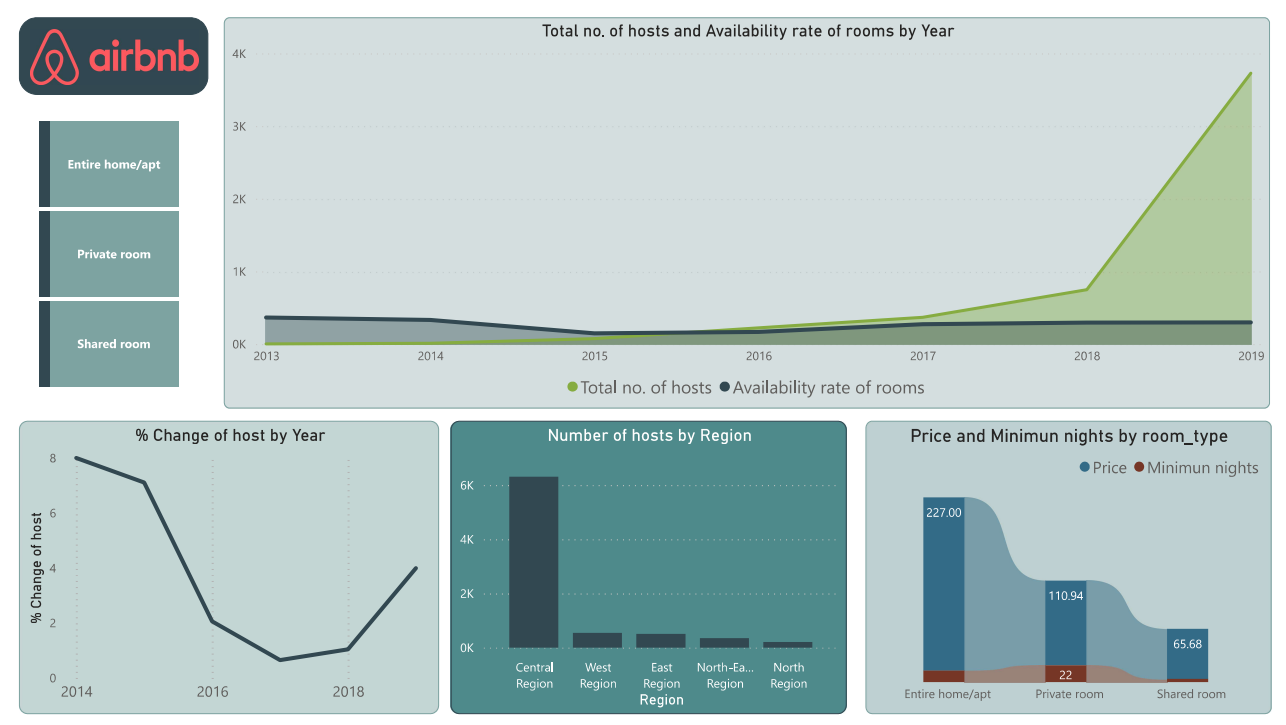

Layout of this report page (visuals, bound fields, positions):
{"tool":"powerbi","page":{"name":"Page 1","canvas":[1280,720],"ordinal":0},"visuals":[{"type":"clusteredColumnChart","fields":{"Category":["region count.Region "],"Y":["Sum(region count.count)"]},"box":[440.1,414.2,393.2,291.2],"z":1},{"type":"lineChart","fields":{"Category":["year ratr.Year"],"Y":["Sum(year ratr.hosts_pct_change)"]},"box":[11.3,414.2,417.4,291.2],"z":4},{"type":"ribbonChart","fields":{"Category":["room and night.room_type"],"Y":["Avg(room and night.mean_price)","Sum(room and night.minimun nights)"]},"box":[851.1,414.2,402.9,291.2],"z":5},{"type":"slicer","fields":{"Values":["room and night.room_type"]},"box":[0,105,200,286.7],"z":6},{"type":"areaChart","fields":{"Category":["year data.Year"],"Y":["Sum(year data.count)","Max(year data.Avg_availability_rate)"]},"box":[215,15,1038.3,388.3],"z":7},{"type":"image","box":[11.7,15,188.3,76.7],"z":8}]}

Visuals, with their boxes in screenshot pixels (x1, y1, x2, y2), scaled from the page's 1280x720 canvas onto the 1286x725 screenshot:
clusteredColumnChart - region count.Region  x Sum(region count.count): BBox(442, 417, 837, 710)
lineChart - year ratr.Year x Sum(year ratr.hosts_pct_change): BBox(11, 417, 431, 710)
ribbonChart - room and night.room_type x Avg(room and night.mean_price): BBox(855, 417, 1260, 710)
slicer - room and night.room_type: BBox(0, 106, 201, 394)
areaChart - year data.Year x Sum(year data.count): BBox(216, 15, 1259, 406)
image: BBox(12, 15, 201, 92)
